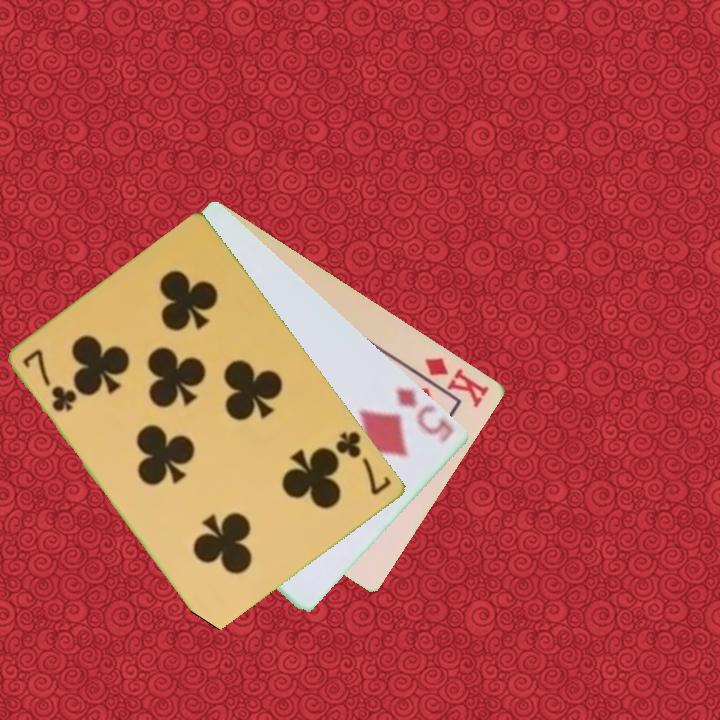5d: (391, 383, 458, 441)
7c: (332, 427, 395, 499), (19, 345, 81, 415)
Kd: (421, 353, 493, 411)
